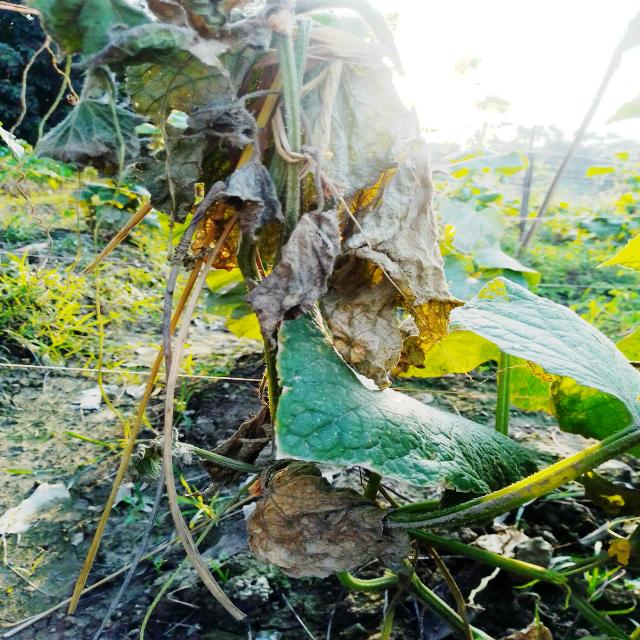Bacterial-Wilt: (317, 133, 472, 391), (245, 459, 417, 580), (242, 208, 342, 353)
